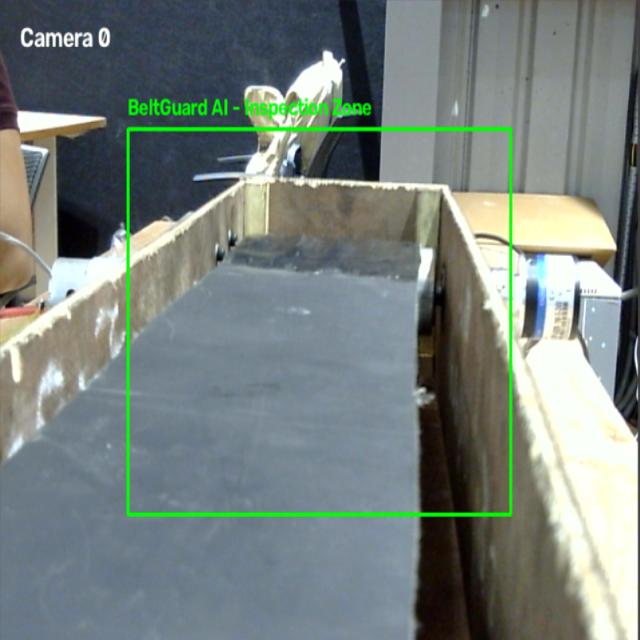Joint_Damage: (229, 232, 423, 280)
eroded: (270, 302, 332, 334)
